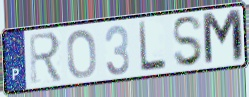3: (104, 23, 131, 77)
L: (137, 20, 168, 74)
M: (200, 7, 246, 68)
O: (65, 28, 98, 81)
R: (27, 30, 65, 85)
S: (171, 14, 205, 69)
